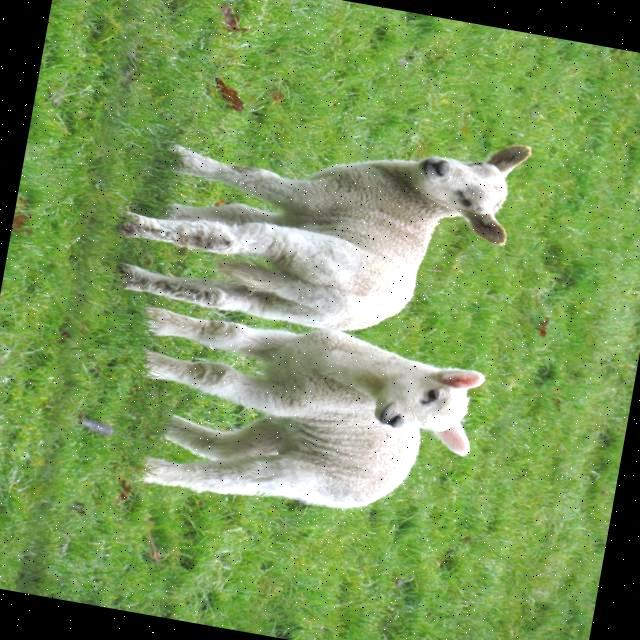sheep: (119, 143, 531, 328), (144, 306, 481, 507)
